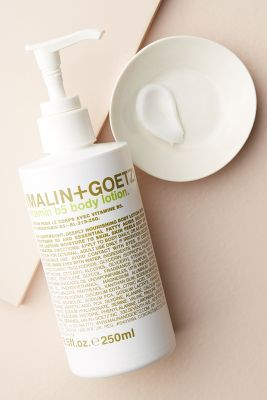Nonrec_Plastic: (10, 6, 192, 382)
